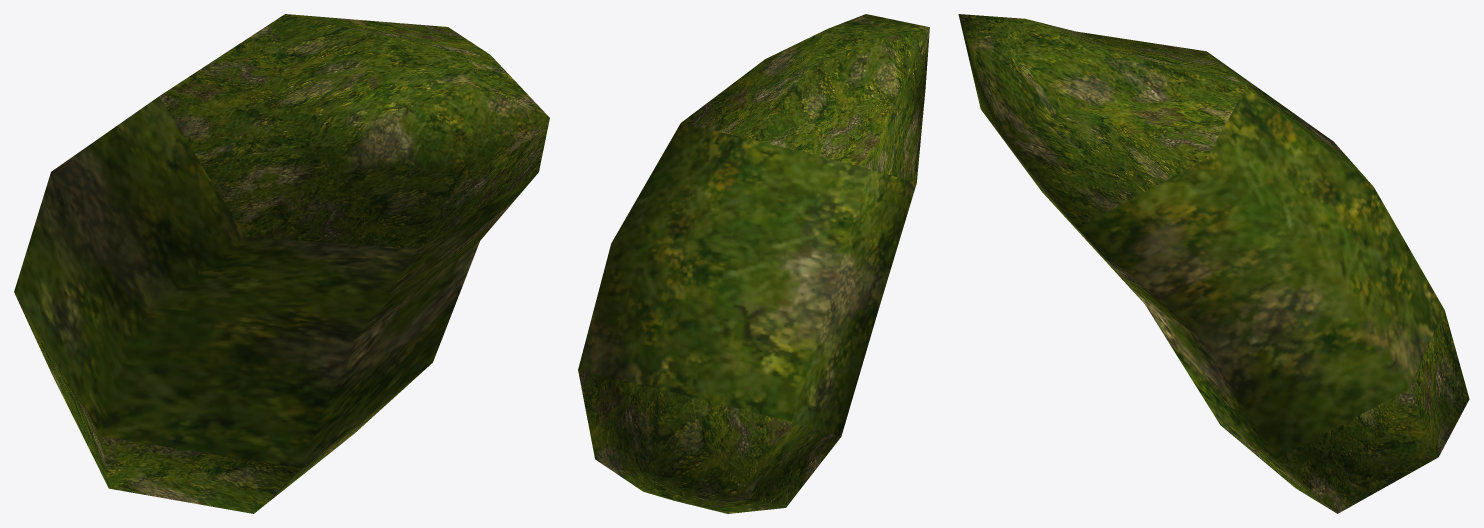
The model's file is OVERHILL_A_01_ROCK_BRIDGE02.fbx.
3 renders of one model, left to right at view 1: azimuth 30°, elevation 25°; view 2: azimuth 150°, elevation 25°; view 3: azimuth 270°, elevation 25°, orthographic. The views are drawn at different scales.
Parts seen in each view (by area): view 1: OVERHILL_A_01_ROCK_BRIDGE02; view 2: OVERHILL_A_01_ROCK_BRIDGE02; view 3: OVERHILL_A_01_ROCK_BRIDGE02.
Boxes of the visible parts, x1,y1,x2,y2 form: OVERHILL_A_01_ROCK_BRIDGE02: (14, 14, 549, 513); OVERHILL_A_01_ROCK_BRIDGE02: (578, 14, 929, 513); OVERHILL_A_01_ROCK_BRIDGE02: (958, 14, 1469, 513).
Bounding box in the file's own units: 13647 × 22153 × 22956.
Materials: 1 (1 with a texture image).
